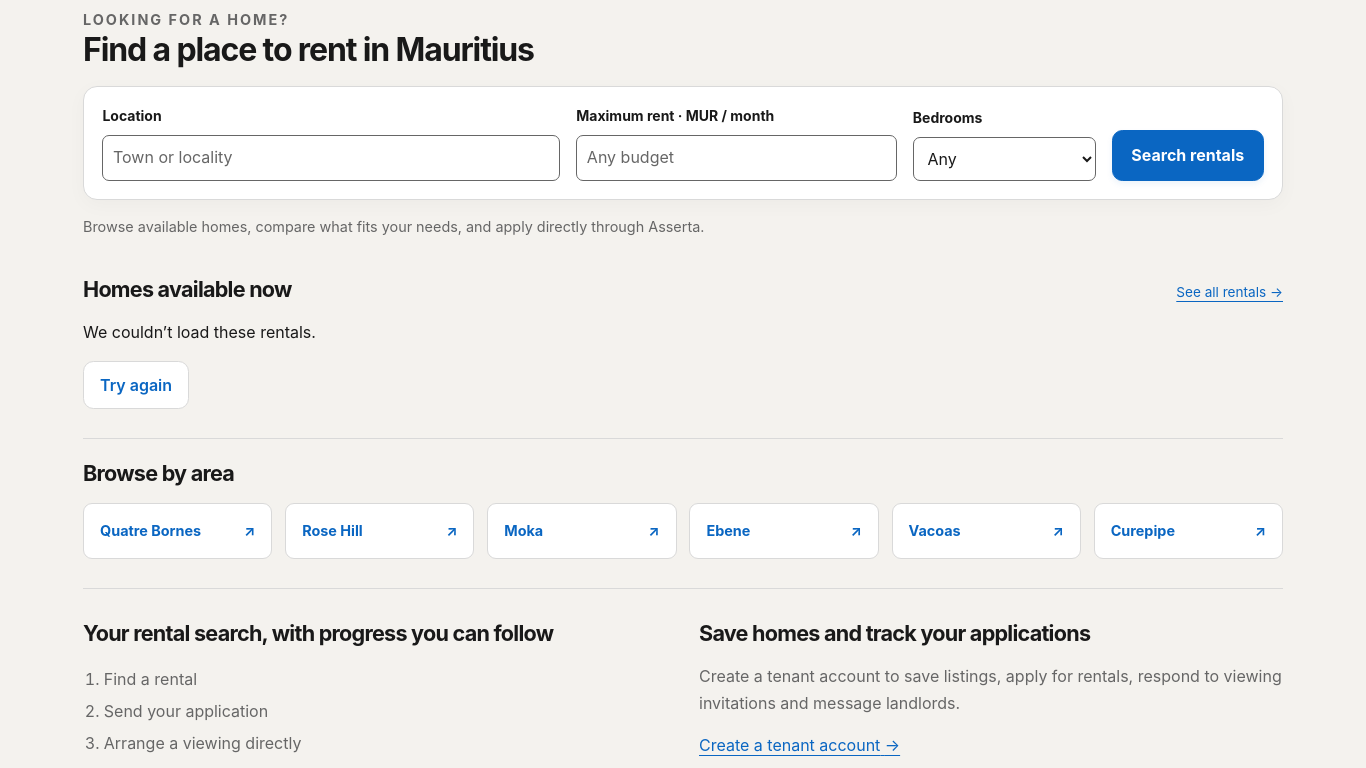
it: offers recovery without fixture cards when the backend fails
(page scrolled)
Step 1. Click the button "Try again" → click(136, 385), box top-left (83, 361), bottom-right (189, 409)
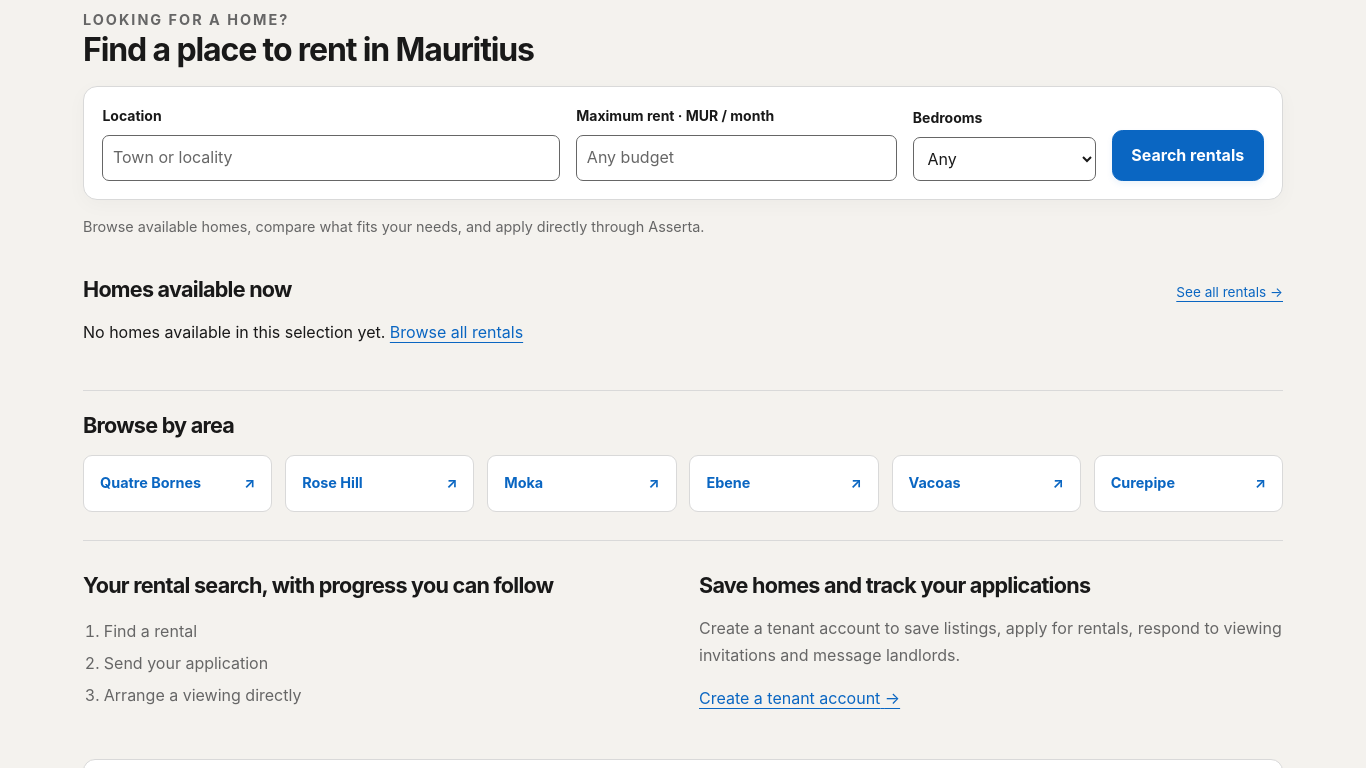
Expected: the text "No homes available in this selection yet. Browse all rentals" is shown, top-left (83, 322), bottom-right (523, 342)
